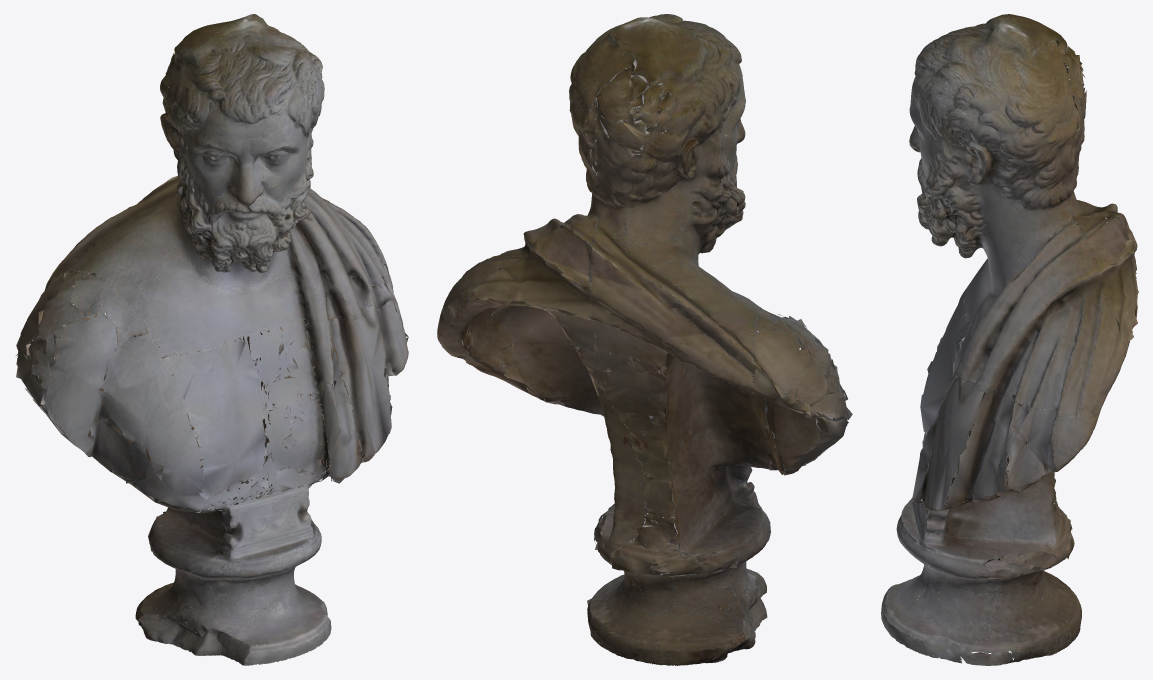
3 renders of one model, left to right at view 1: azimuth 30°, elevation 25°; view 2: azimuth 150°, elevation 25°; view 3: azimuth 270°, elevation 25°, orthographic. The views are drawn at different scales.
Visible parts, largest first — view 1: Object_4, Object_7, Object_3, Object_6, Object_5; view 2: Object_5, Object_4, Object_7, Object_3, Object_6; view 3: Object_7, Object_6, Object_4, Object_3, Object_5, Object_8.
Boxes of the visible parts, left/top/right/bottom form: Object_4: left=16, top=42, right=408, bottom=551; Object_7: left=142, top=14, right=331, bottom=665; Object_3: left=136, top=30, right=341, bottom=514; Object_6: left=180, top=73, right=386, bottom=332; Object_5: left=45, top=27, right=408, bottom=628; Object_5: left=437, top=55, right=765, bottom=665; Object_4: left=461, top=61, right=852, bottom=605; Object_7: left=596, top=14, right=770, bottom=649; Object_3: left=569, top=32, right=771, bottom=502; Object_6: left=440, top=36, right=745, bottom=334; Object_7: left=881, top=14, right=1072, bottom=663; Object_6: left=917, top=27, right=1125, bottom=417; Object_4: left=912, top=41, right=1138, bottom=665; Object_3: left=909, top=44, right=1077, bottom=499; Object_5: left=923, top=23, right=1137, bottom=664; Object_8: left=926, top=59, right=973, bottom=122.
Bounding box in the file's own units: 20.51 × 31.08 × 11.86.
1 material, 1 textured.
